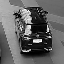motor: (13, 4, 49, 57)
